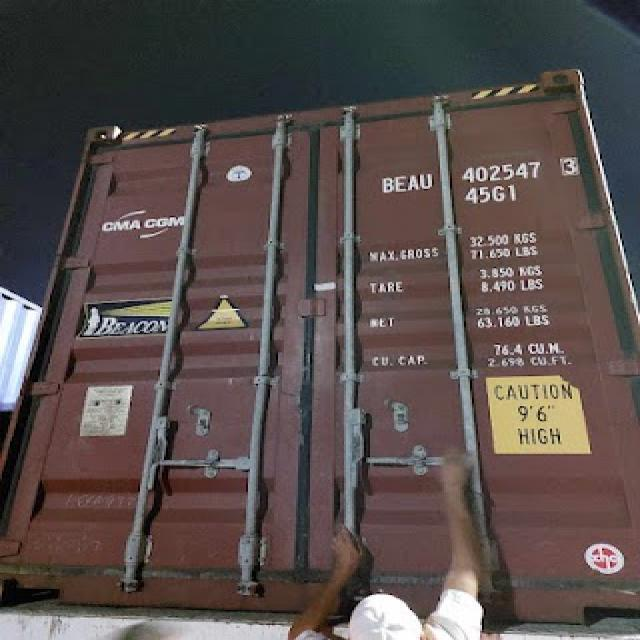ISO: (467, 185, 520, 204)
container_number: (383, 150, 574, 196)
